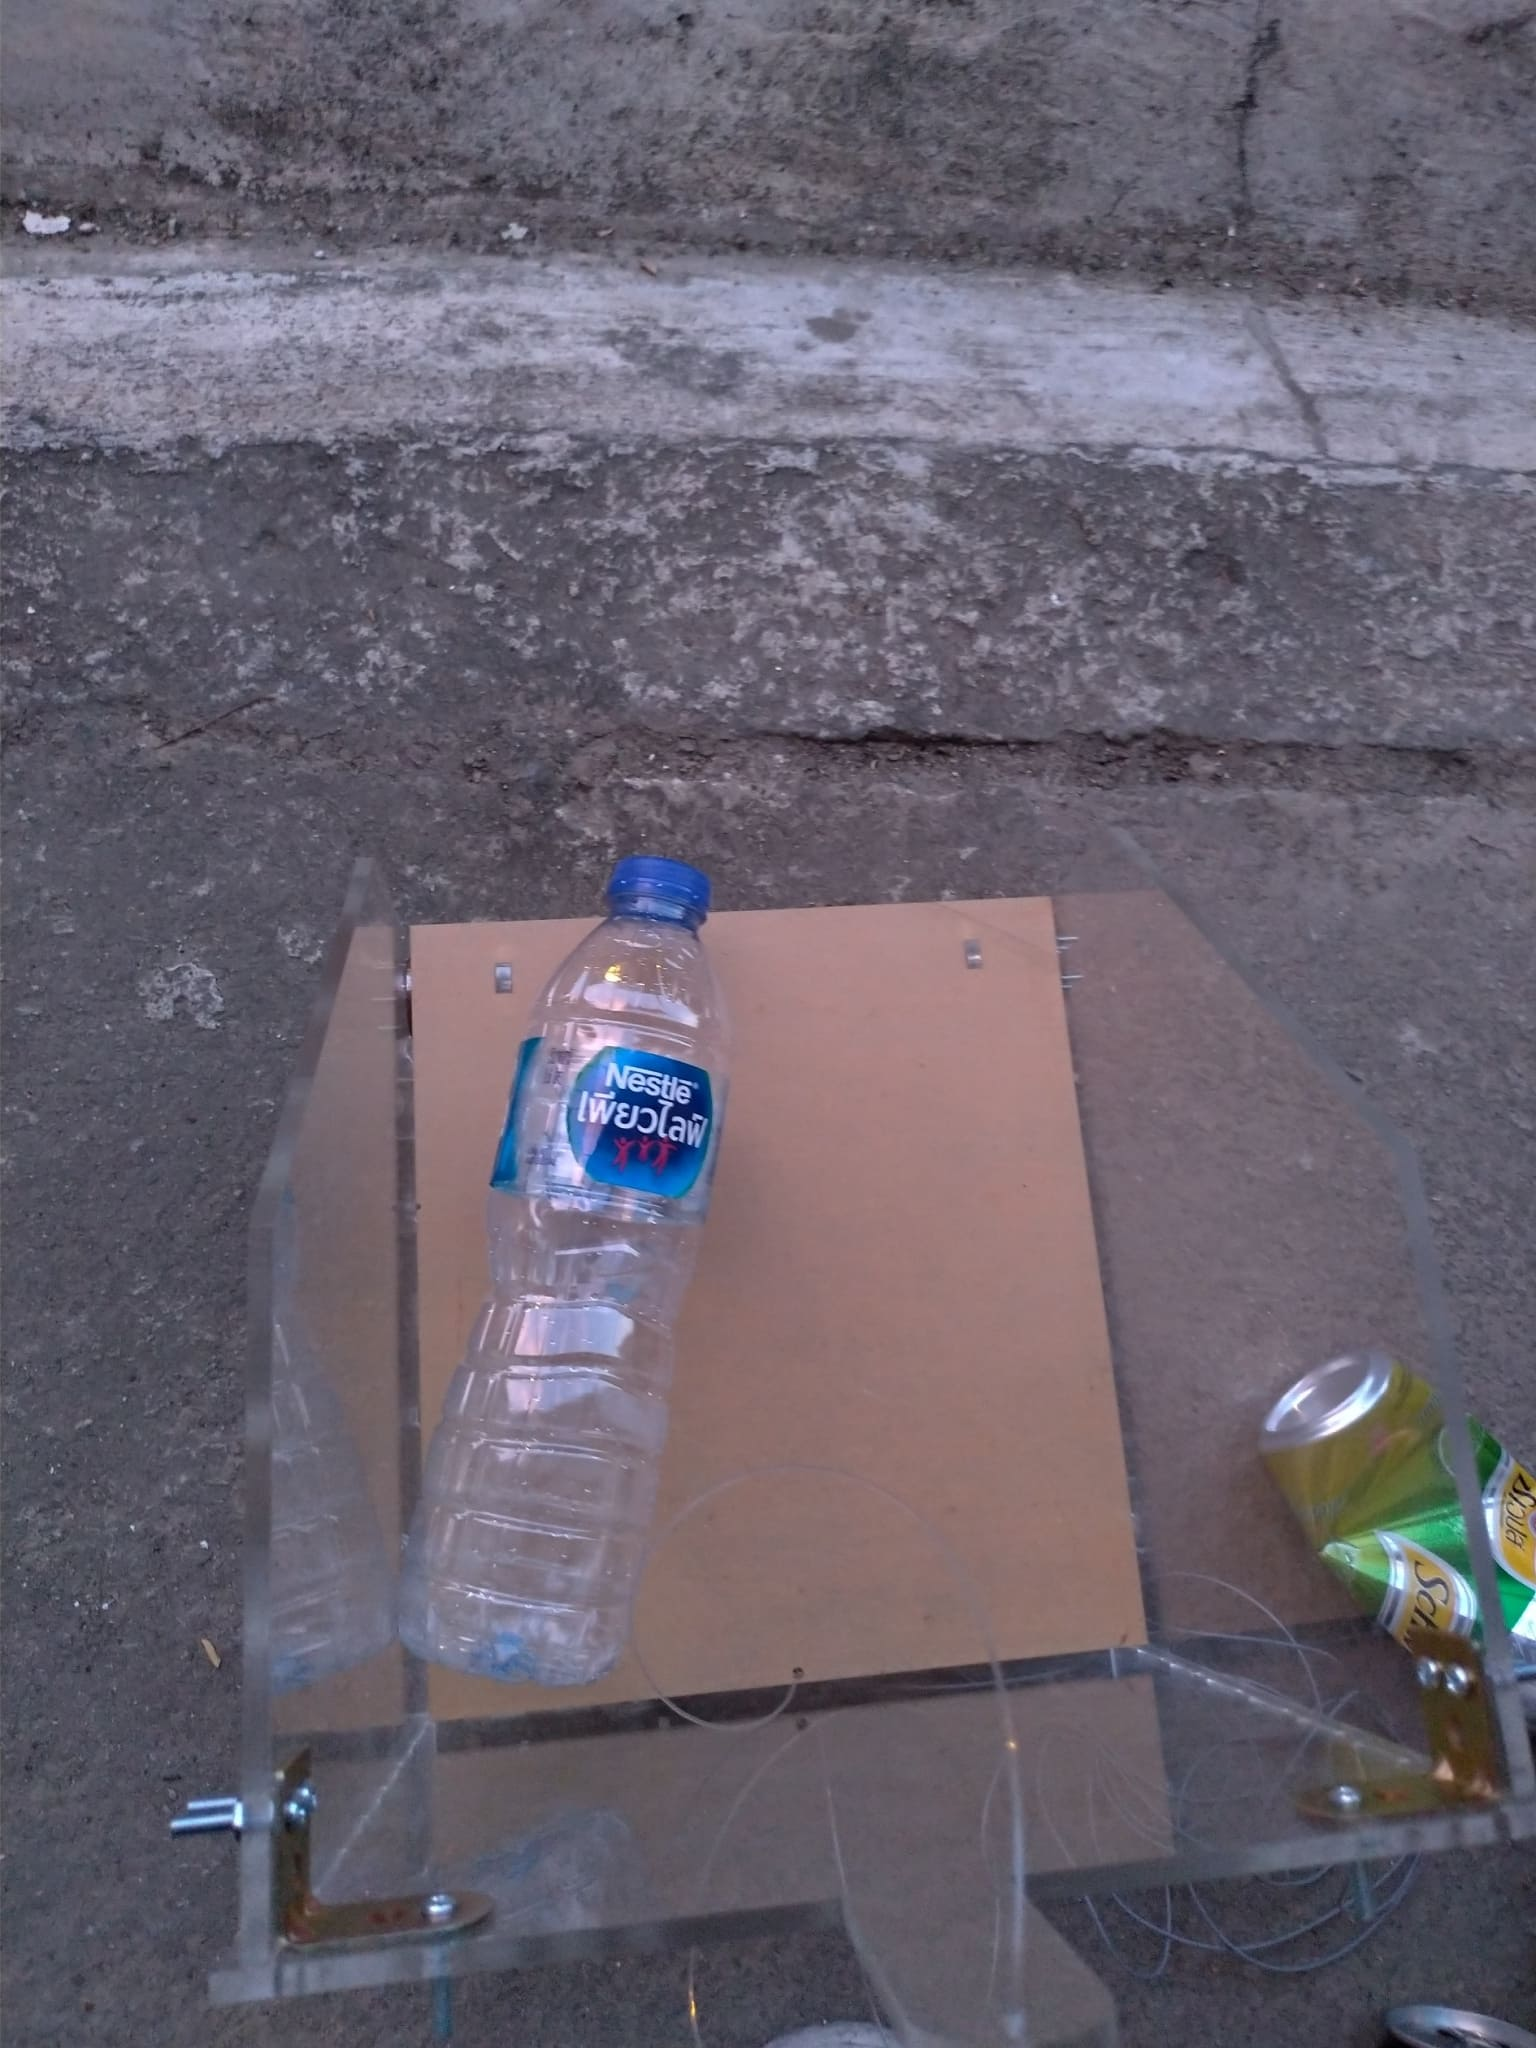AlCan: (1254, 1348, 1536, 1709)
PlasticBottle: (397, 848, 724, 1677)
